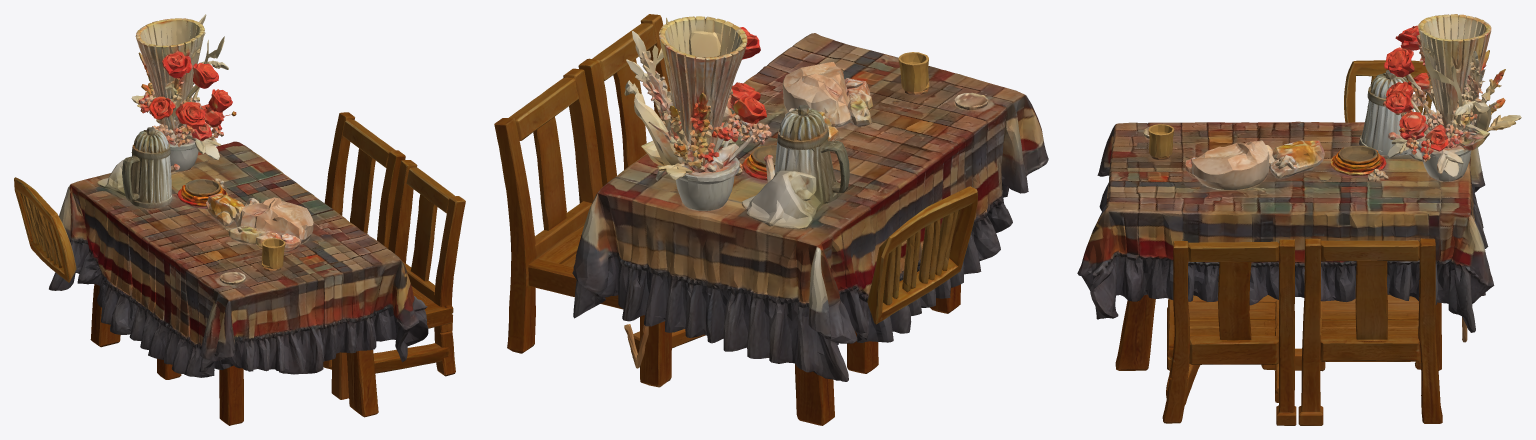
The model's file is 餐桌五椅组合_彩色.glb.
3 renders of one model, left to right at view 1: azimuth 30°, elevation 25°; view 2: azimuth 150°, elevation 25°; view 3: azimuth 270°, elevation 25°, orthographic. The views are drawn at different scales.
Visible parts, largest first — view 1: model; view 2: model; view 3: model.
Boxes of the visible parts, x1,y1,x2,y2 form: model: [14, 14, 465, 425]; model: [494, 14, 1048, 425]; model: [1077, 14, 1521, 425].
Size of the model in its own units: 1.82 by 1.49 by 1.89.
1 material, 1 textured.
